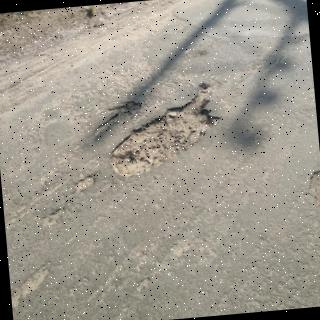pothole: (110, 85, 219, 179)
